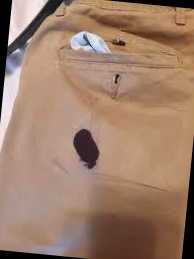ink: (69, 126, 102, 167)
